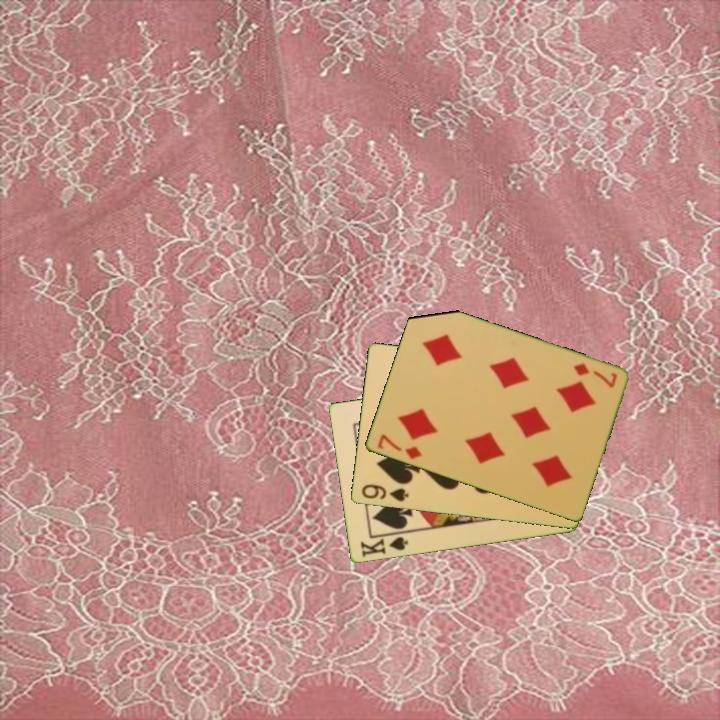7d: (569, 360, 620, 391), (374, 431, 424, 462)
9s: (358, 481, 411, 505)
Ks: (357, 529, 411, 561)
